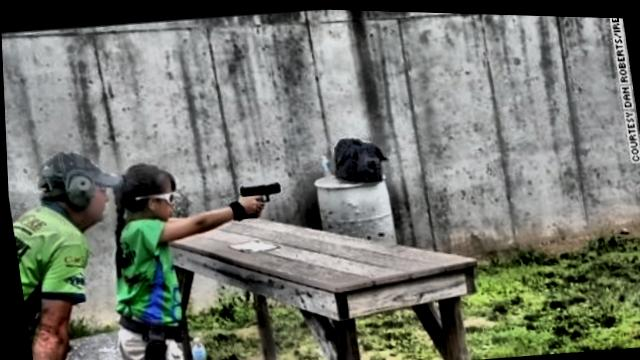pistol: (236, 179, 284, 217)
